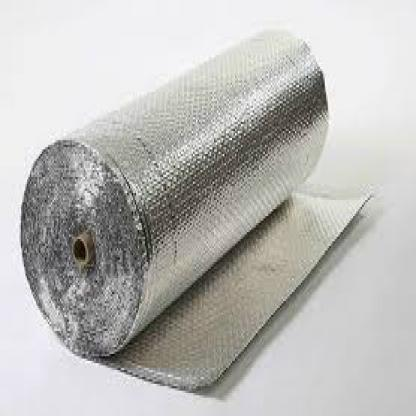METAL: (18, 25, 371, 386)
